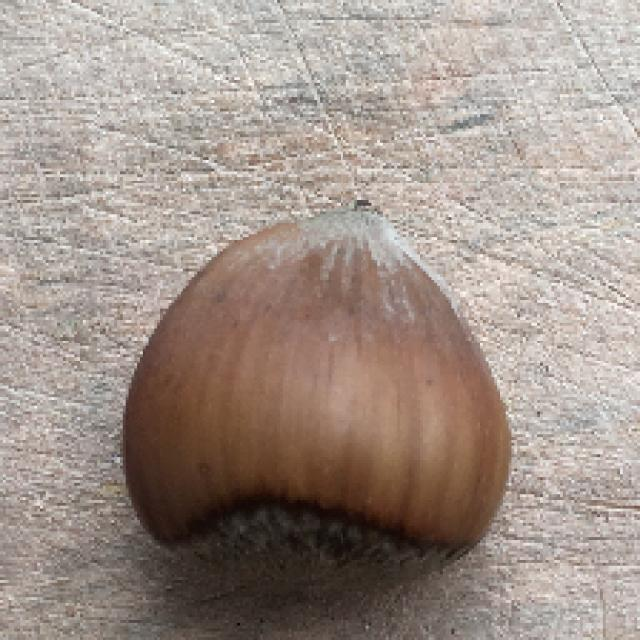DamagedHazelnut: (117, 203, 517, 614)
